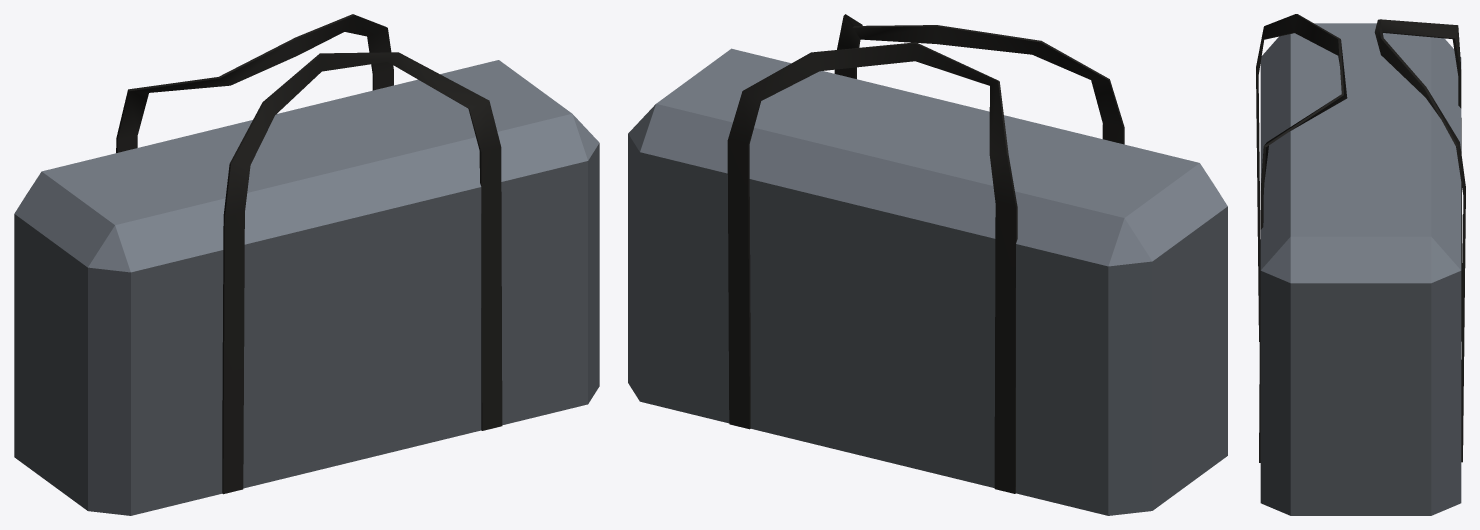
3 views of the same model, side by side, from view 1: azimuth 30°, elevation 25°; view 2: azimuth 150°, elevation 25°; view 3: azimuth 270°, elevation 25° (orthographic). The views are drawn at different scales.
Parts seen in each view (by area): view 1: shubao_1:polySurface434; view 2: shubao_1:polySurface434; view 3: shubao_1:polySurface434.
Part boxes in pixels (box(x1,y1,x2,y2)): shubao_1:polySurface434: box(14, 14, 599, 515); shubao_1:polySurface434: box(628, 14, 1227, 515); shubao_1:polySurface434: box(1256, 14, 1465, 515).
Bounding box in the file's own units: 37.5 × 26.29 × 13.94.
